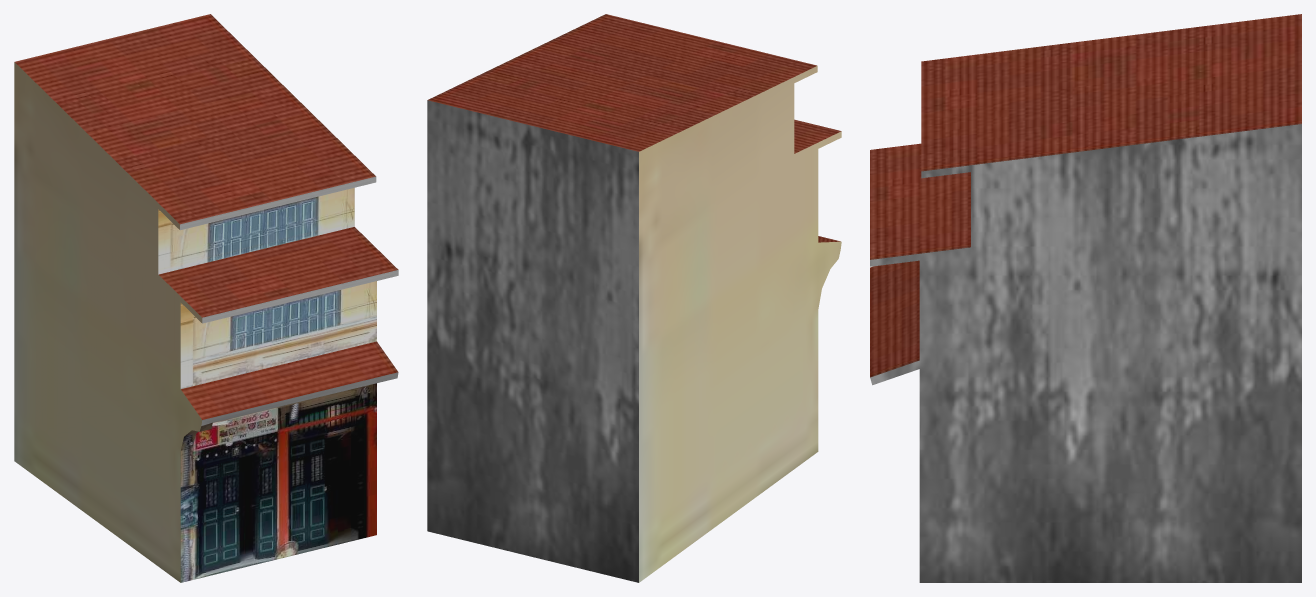
3 views of the same model, side by side, from view 1: azimuth 30°, elevation 25°; view 2: azimuth 150°, elevation 25°; view 3: azimuth 270°, elevation 25° (orthographic). The views are drawn at different scales.
Visible parts, largest first — view 1: Hn917___Bia_Pho_Co; view 2: Hn917___Bia_Pho_Co; view 3: Hn917___Bia_Pho_Co.
Part boxes in pixels (box(x1,y1,x2,y2)): Hn917___Bia_Pho_Co: box(14, 14, 398, 582); Hn917___Bia_Pho_Co: box(427, 14, 841, 582); Hn917___Bia_Pho_Co: box(870, 14, 1301, 582).
Bounding box in the file's own units: 4.09 × 7.95 × 6.78.
1 material, 1 textured.
